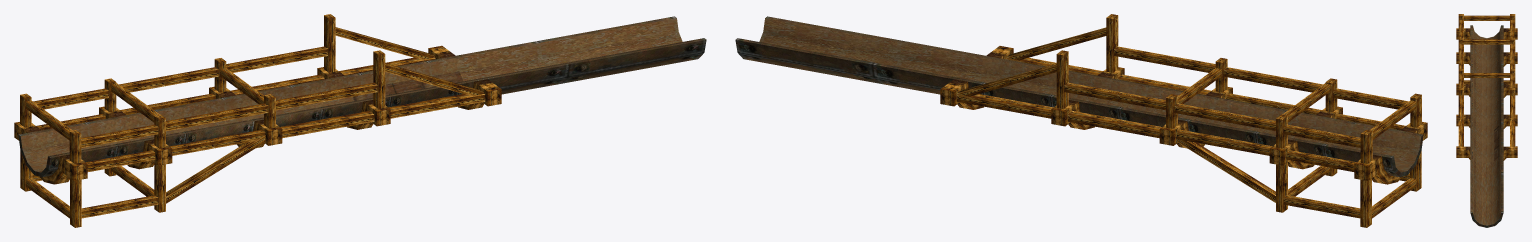
The model's file is FORGE_WATERDRAIN.fbx.
The picture shows the model from 3 angles, left to right: view 1: azimuth 30°, elevation 25°; view 2: azimuth 150°, elevation 25°; view 3: azimuth 270°, elevation 25°; orthographic projection. The views are drawn at different scales.
Visible parts, largest first — view 1: FORGE_WATERDRAIN; view 2: FORGE_WATERDRAIN; view 3: FORGE_WATERDRAIN.
Boxes of the visible parts, left/top/right/bottom form: FORGE_WATERDRAIN: left=14, top=14, right=706, bottom=227; FORGE_WATERDRAIN: left=735, top=14, right=1427, bottom=227; FORGE_WATERDRAIN: left=1456, top=14, right=1517, bottom=227.
Bounding box in the file's own units: 201961 × 30796 × 31669.
Materials: 5 (5 with a texture image).
